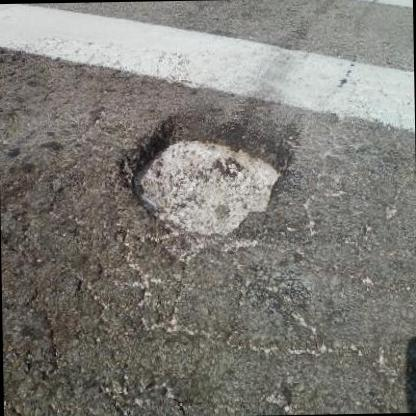pothole: (117, 108, 294, 247)
